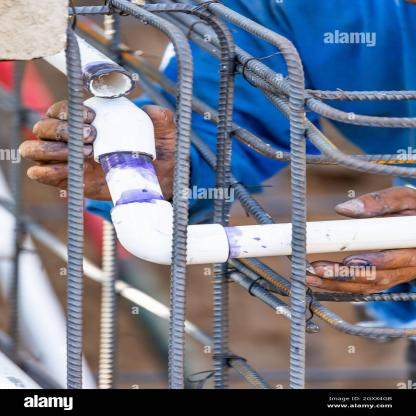PVC: (100, 152, 416, 266), (42, 33, 137, 98), (82, 96, 155, 161)
